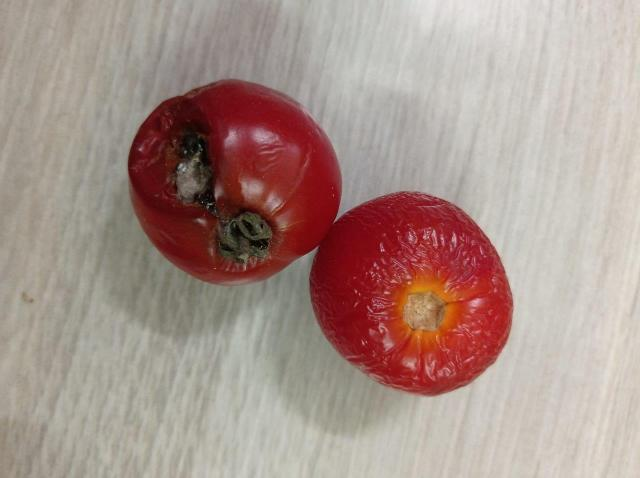defect: (123, 78, 344, 290), (308, 189, 515, 397)
